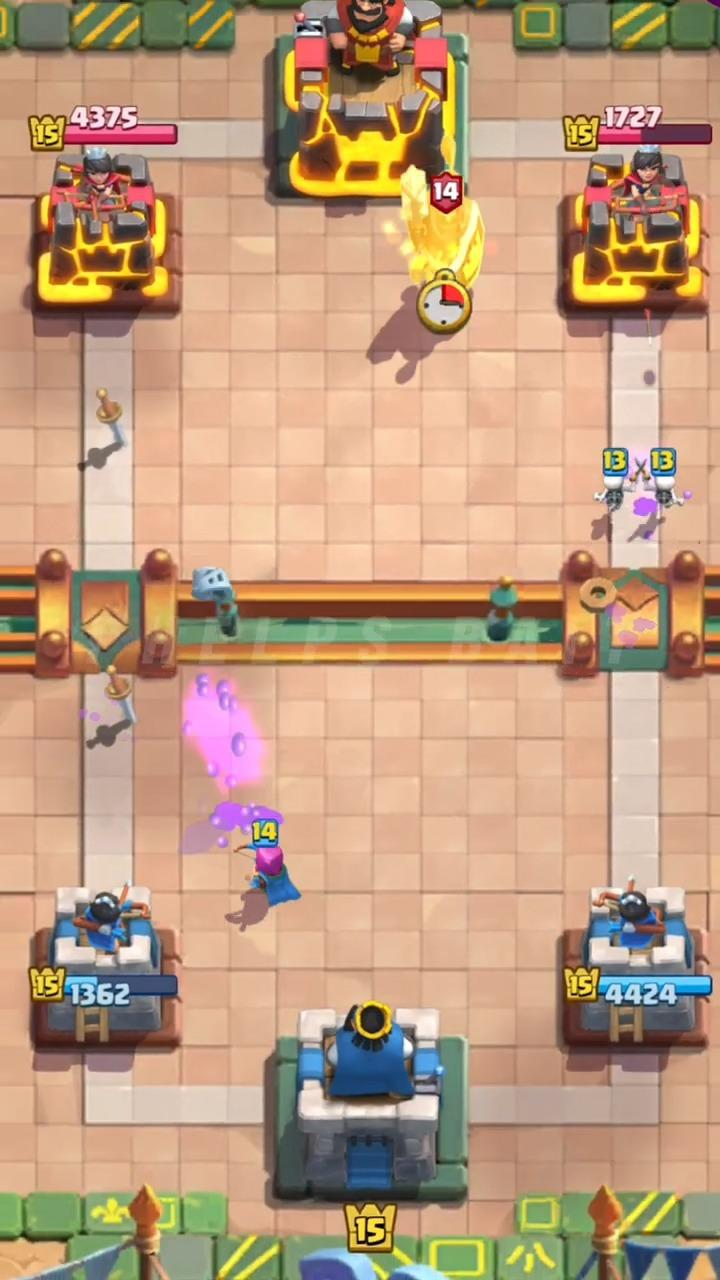archer: (236, 841, 300, 907)
dark prince: (401, 166, 484, 289)
skeletons: (594, 446, 684, 514)
